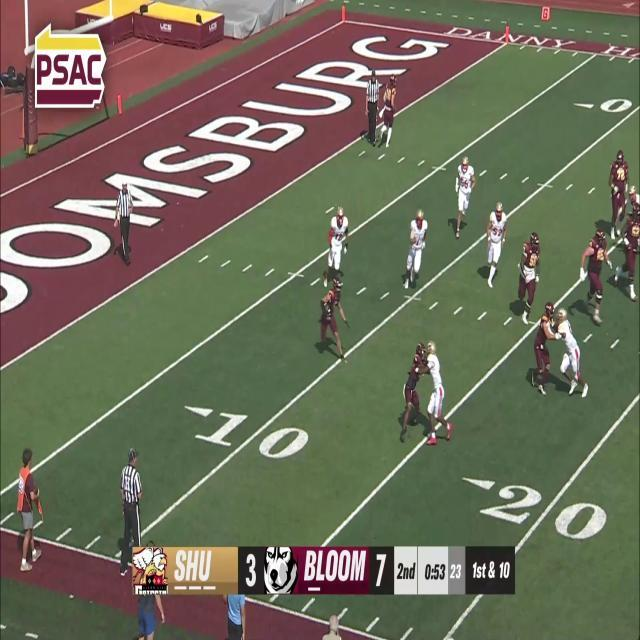football: (323, 302, 331, 318)
